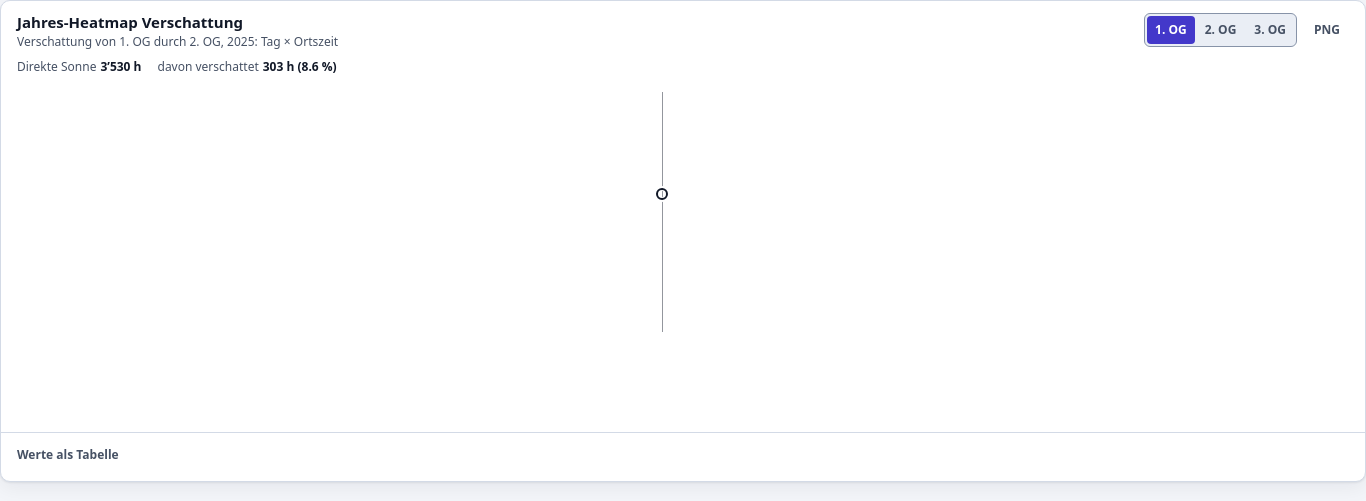
Scenario: ShadeHeatmap › offers a floor selector with more than two floors (shared focus floor)
Click the radio button labelled "2. OG". click: (1221, 30)
box: [1197, 16, 1244, 44]
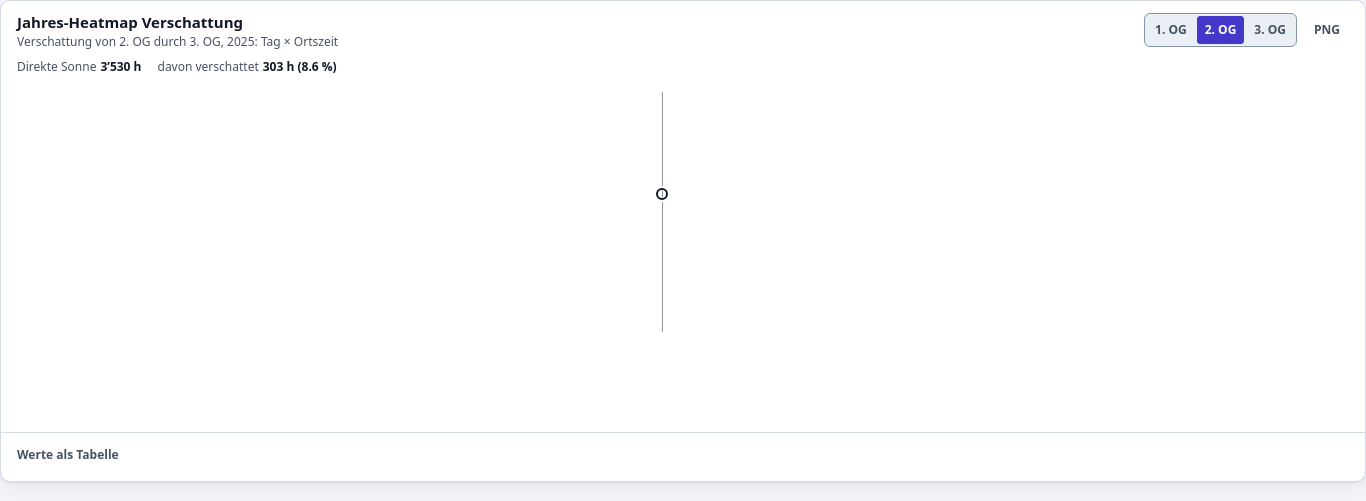
Result: the text "Verschattung von 2. OG durch 3. OG, 2025: Tag × Ortszeit" is shown at [17, 33, 338, 50]
